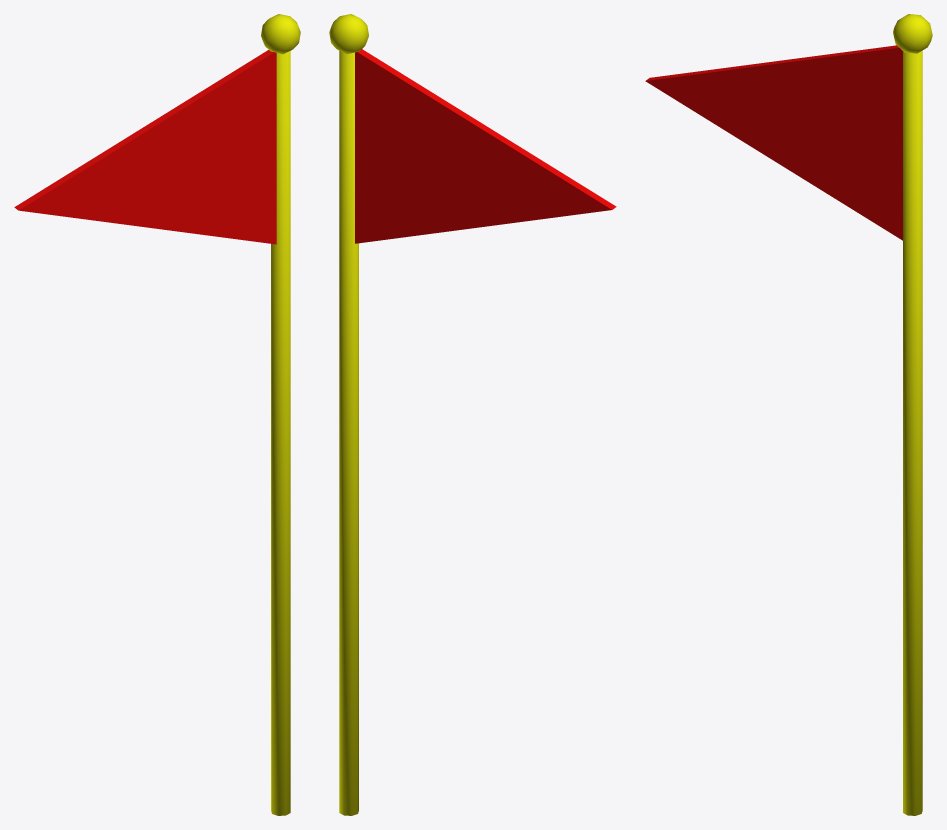
Rendered from flag.fbx.
3 renders of one model, left to right at view 1: azimuth 30°, elevation 25°; view 2: azimuth 150°, elevation 25°; view 3: azimuth 330°, elevation 25°, orthographic.
Parts seen in each view (by area): view 1: Cylinder.001, Cylinder; view 2: Cylinder.001, Cylinder; view 3: Cylinder.001, Cylinder.
Part boxes in pixels (x1,y1,x2,y2): Cylinder.001: (14, 50, 276, 244); Cylinder: (261, 14, 300, 815); Cylinder.001: (355, 49, 616, 243); Cylinder: (329, 14, 368, 815); Cylinder.001: (645, 45, 902, 240); Cylinder: (893, 14, 932, 815).
Bounding box in the file's own units: 159 × 430 × 20.
